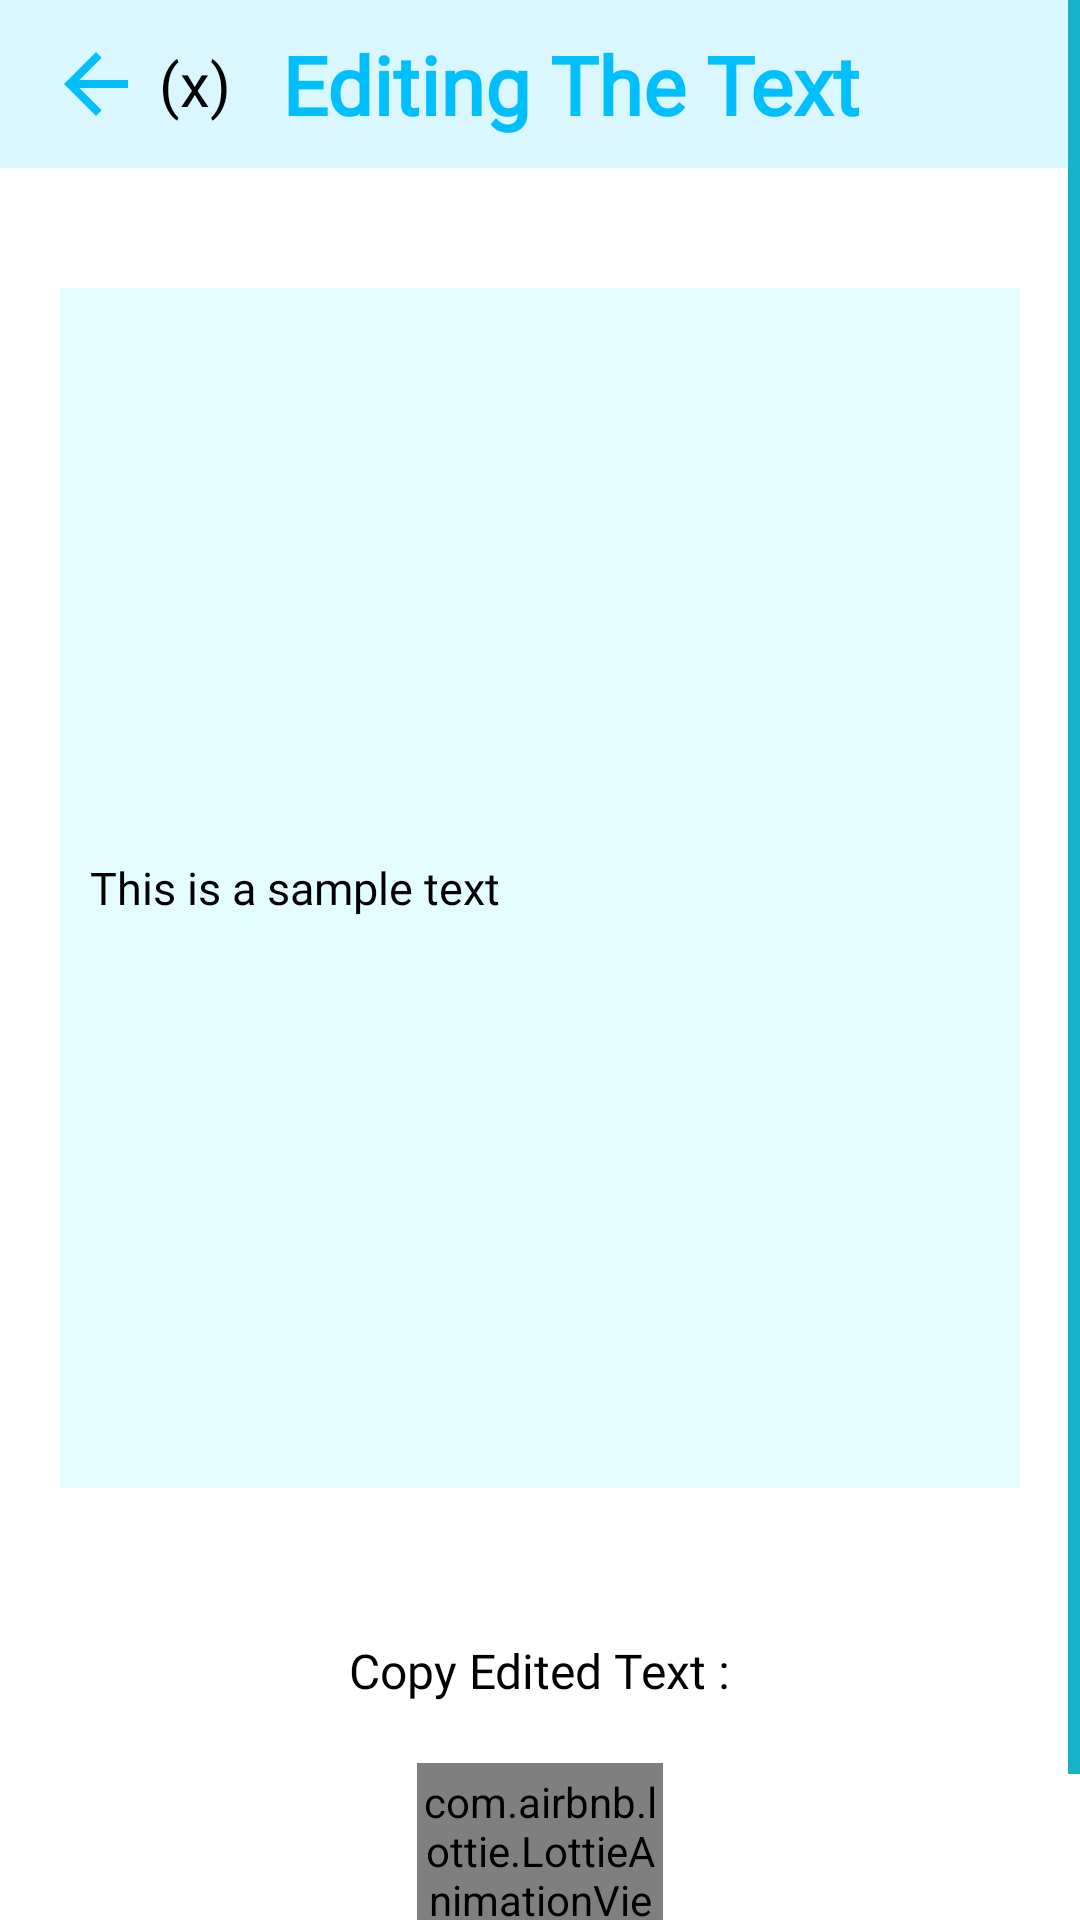

Point at icon controls on the screen. Image size 1080x1920, points as (x,y).
back arrow: (96,84)
